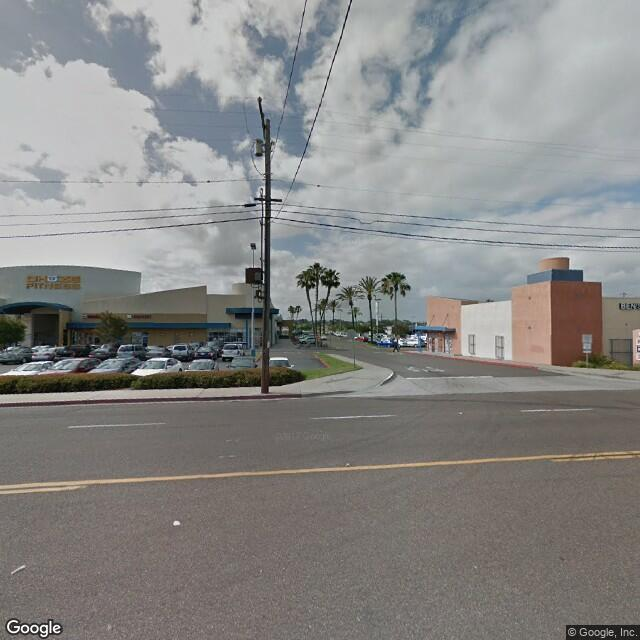litter: (171, 515, 183, 527)
